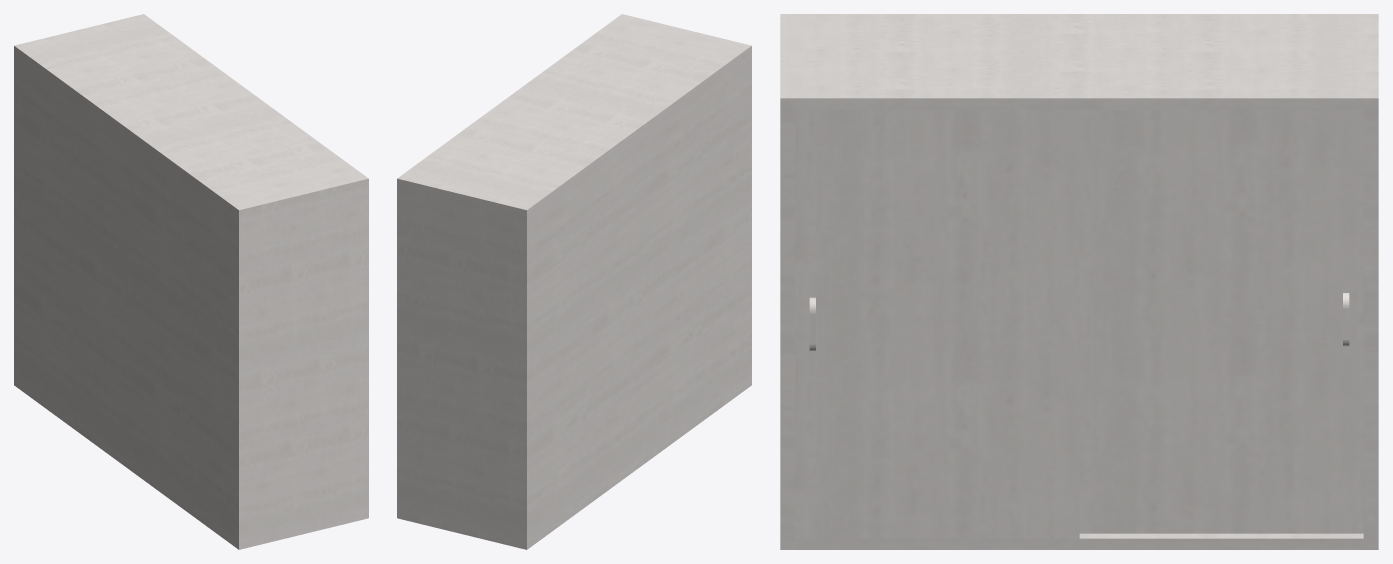
Rendered from wardrobe.glb.
3 renders of one model, left to right at view 1: azimuth 30°, elevation 25°; view 2: azimuth 150°, elevation 25°; view 3: azimuth 270°, elevation 25°, orthographic. The views are drawn at different scales.
Parts seen in each view (by area): view 1: wardrobe; view 2: wardrobe; view 3: left_door, right_door, wardrobe.
Part boxes in pixels (x1,y1,x2,y2): wardrobe: [14, 14, 368, 549]; wardrobe: [397, 14, 751, 549]; left_door: [795, 109, 1079, 538]; right_door: [1079, 109, 1363, 533]; wardrobe: [780, 14, 1378, 549].
Bounding box in the file's own units: 0.8464 × 2 × 2.4.
Materials: 4 (4 with a texture image).
